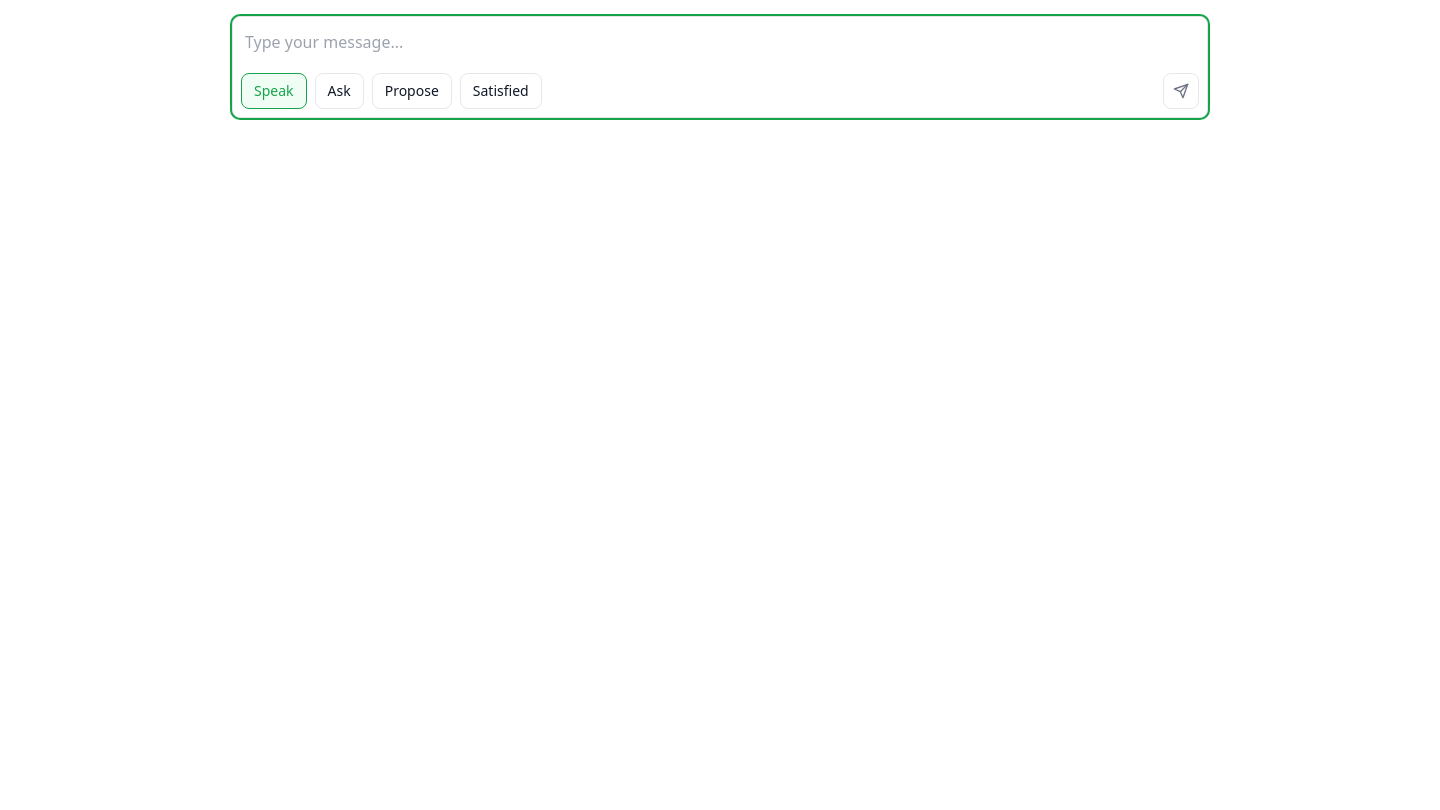
UserInputSection speaking turn › keeps a generation running in the background when the dialog is closed
Click the button "Propose".
click(412, 91)  # box [372, 73, 452, 109]
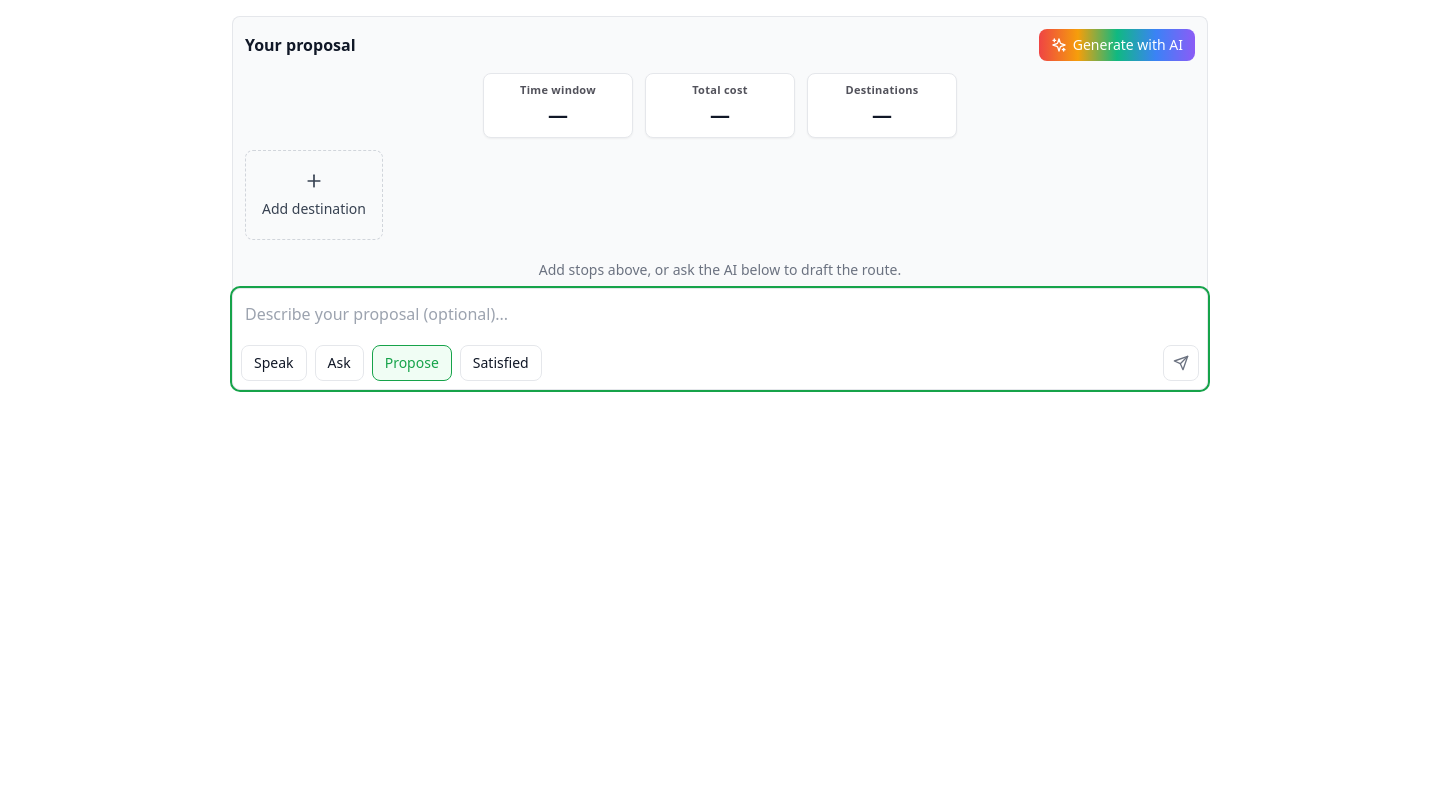
Click the button "Generate with AI".
click(1117, 45)  # box [1039, 29, 1195, 61]
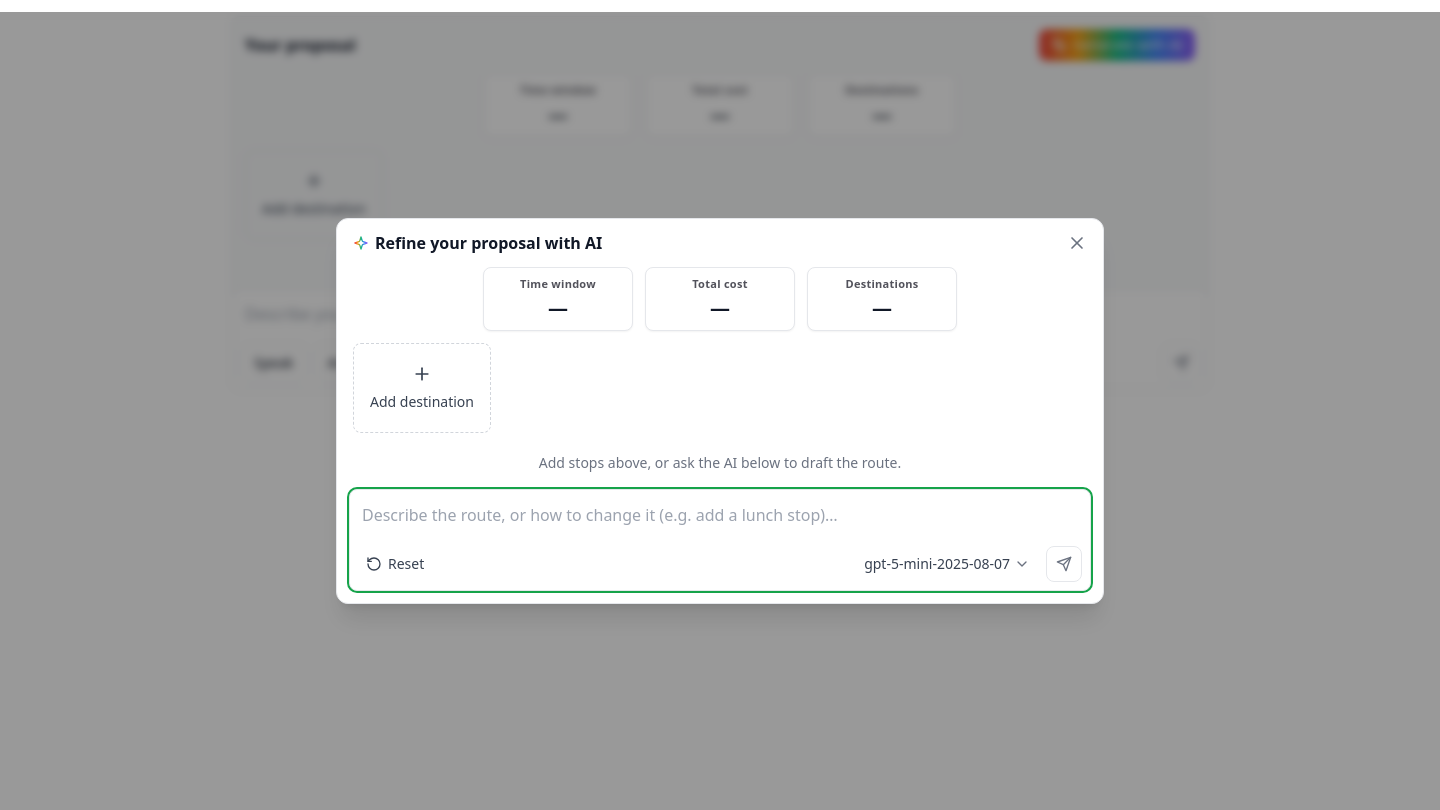
Replace the text in the text box with placeholder "Describe the route, or how to change it (e.g. add a lunch stop)…" with "Draft something" at (720, 518), box [350, 490, 1090, 546]
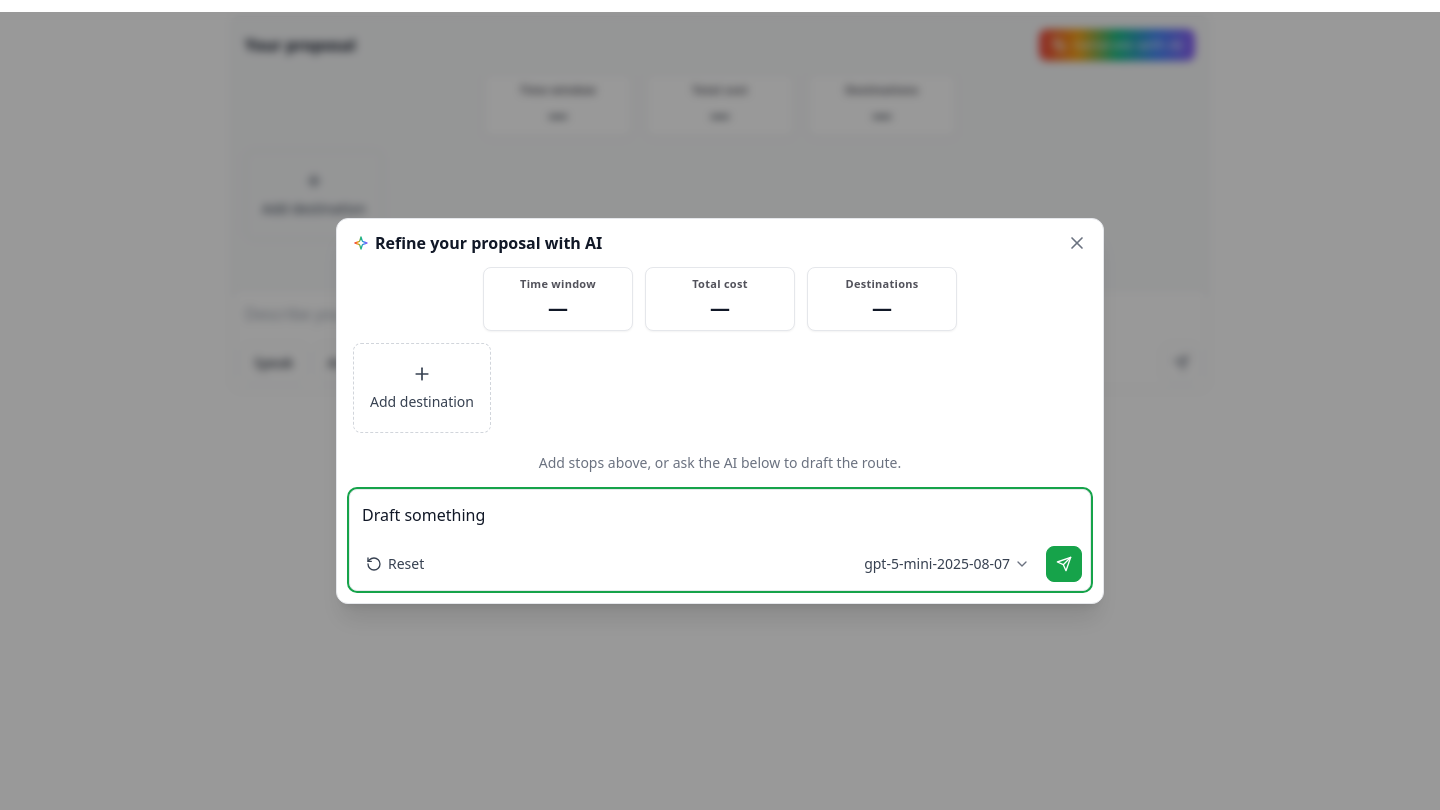
Click the button named "Send".
click(1064, 564)  # box [1046, 546, 1082, 582]
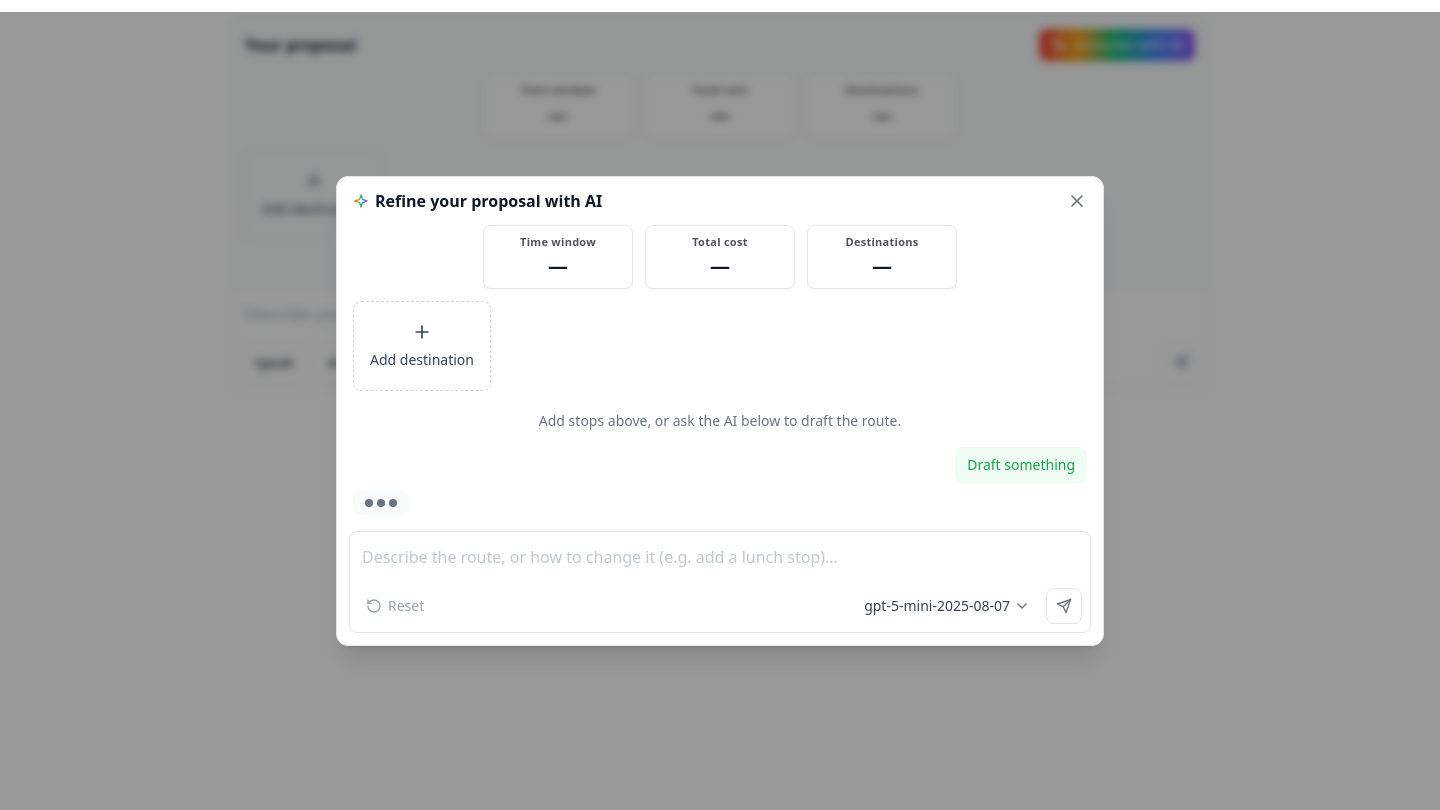
// Close mid-generation, then let the draft finish in the background.
Click the button named "Close".
click(1077, 201)  # box [1067, 191, 1087, 211]
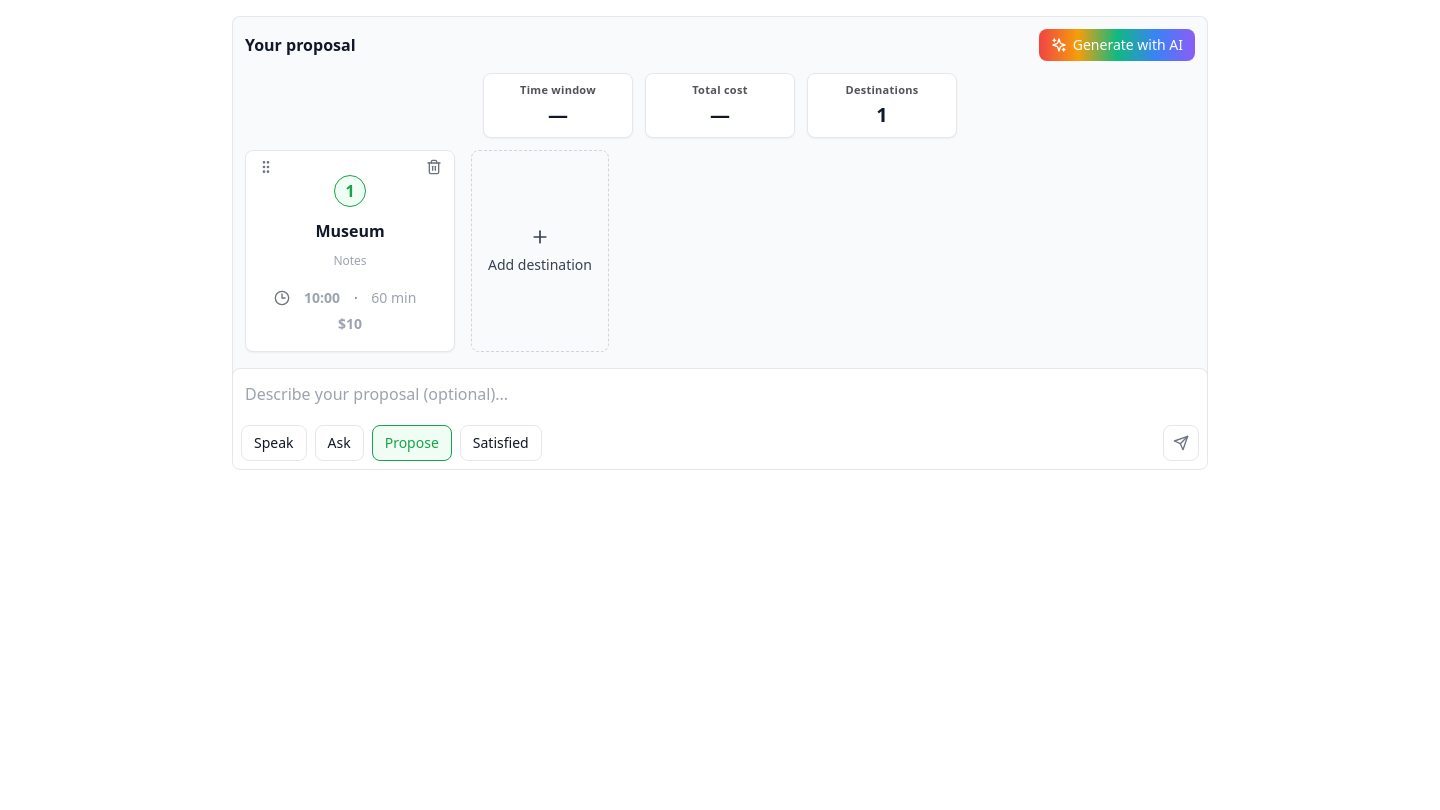
Result: the heading "Refine your proposal with AI" is gone
Result: the text box showing "Museum" is shown at [258, 218, 442, 240]
// …and reopening shows the finished conversation instead of a reset one.
Click the button "Generate with AI".
click(1117, 45)  # box [1039, 29, 1195, 61]
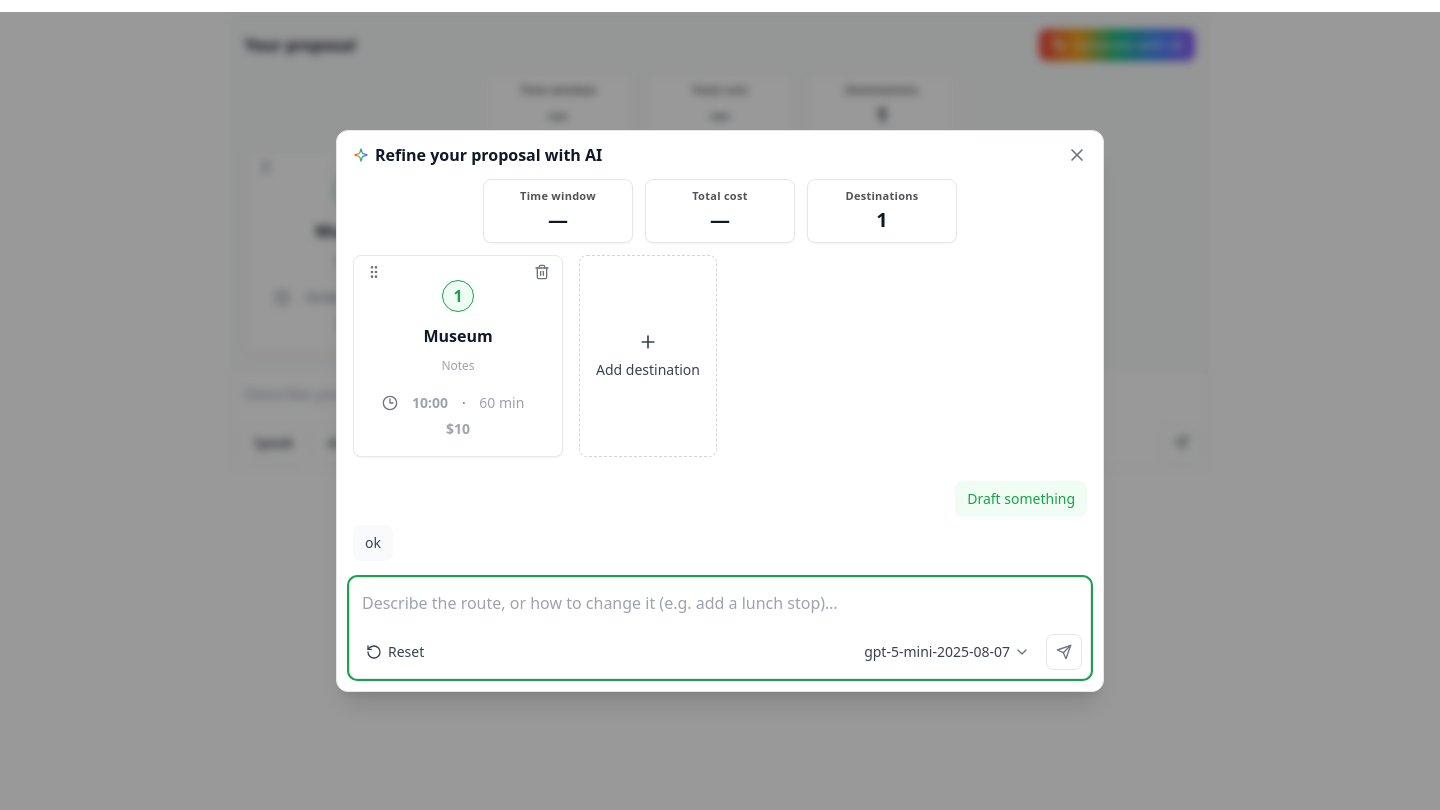
Result: the text "ok" is shown at [353, 525, 393, 561]
